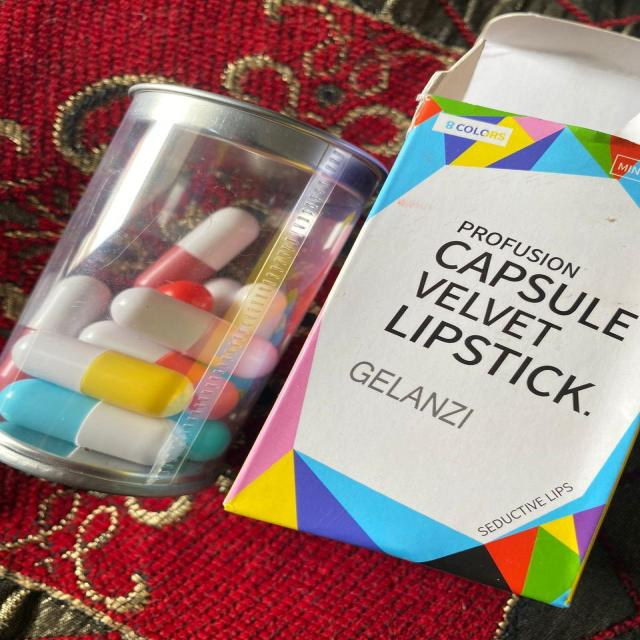lip stick: (9, 162, 309, 594)
